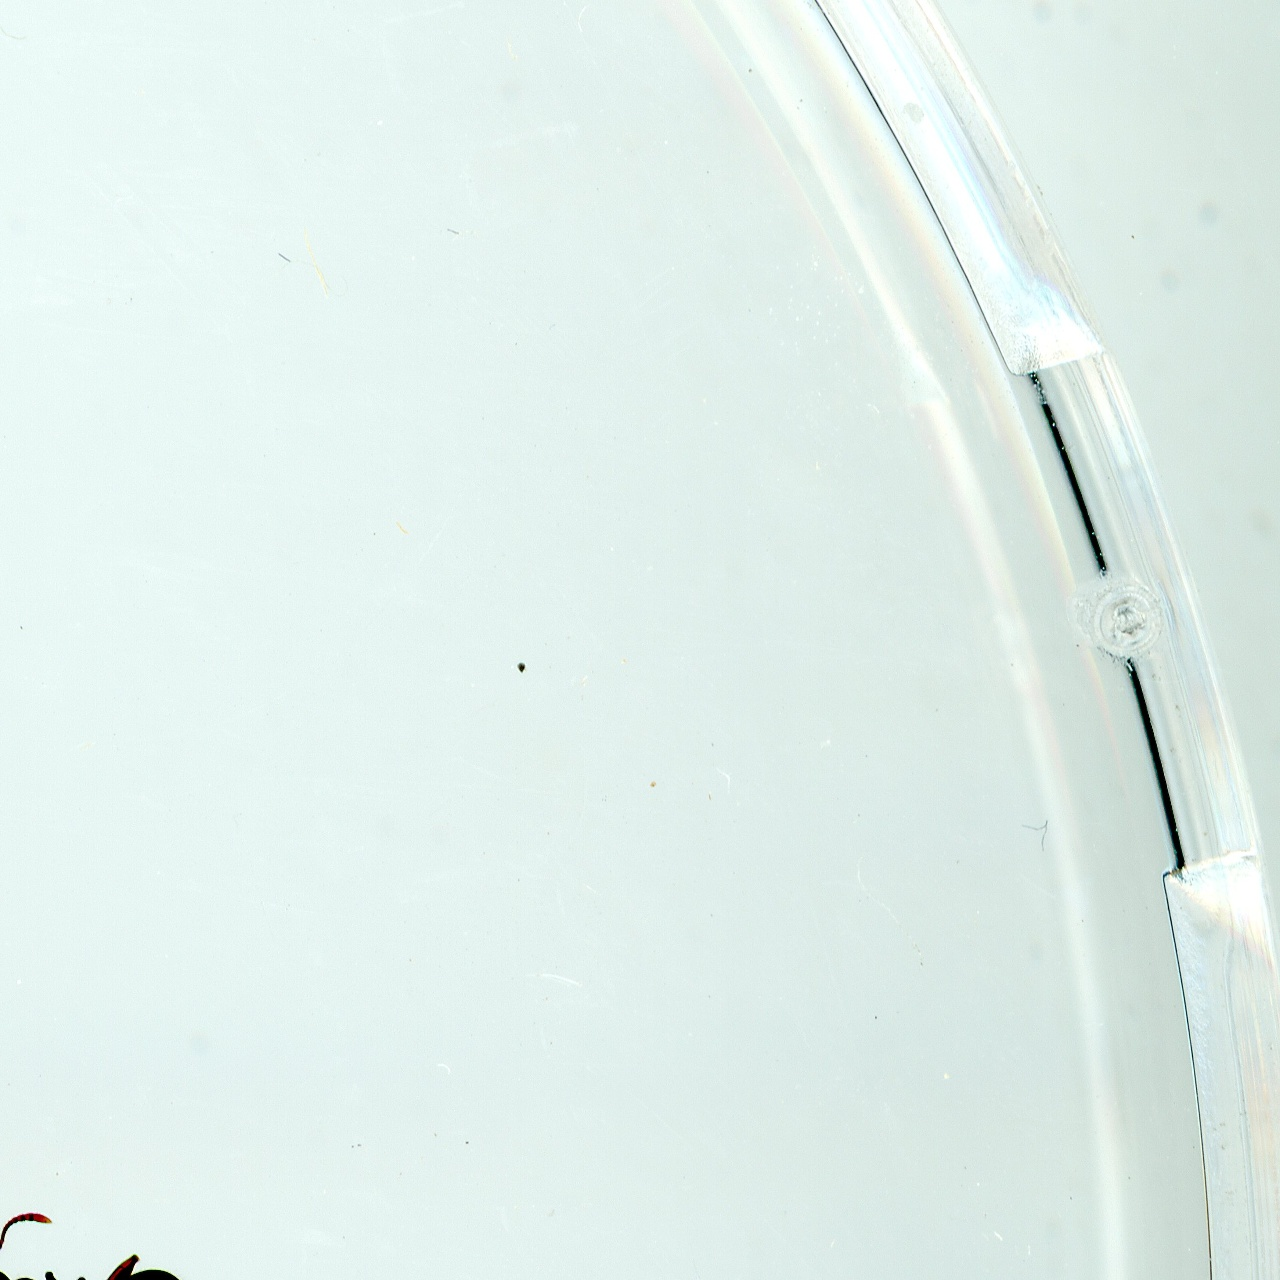arthropod: (0, 1205, 205, 1280)
